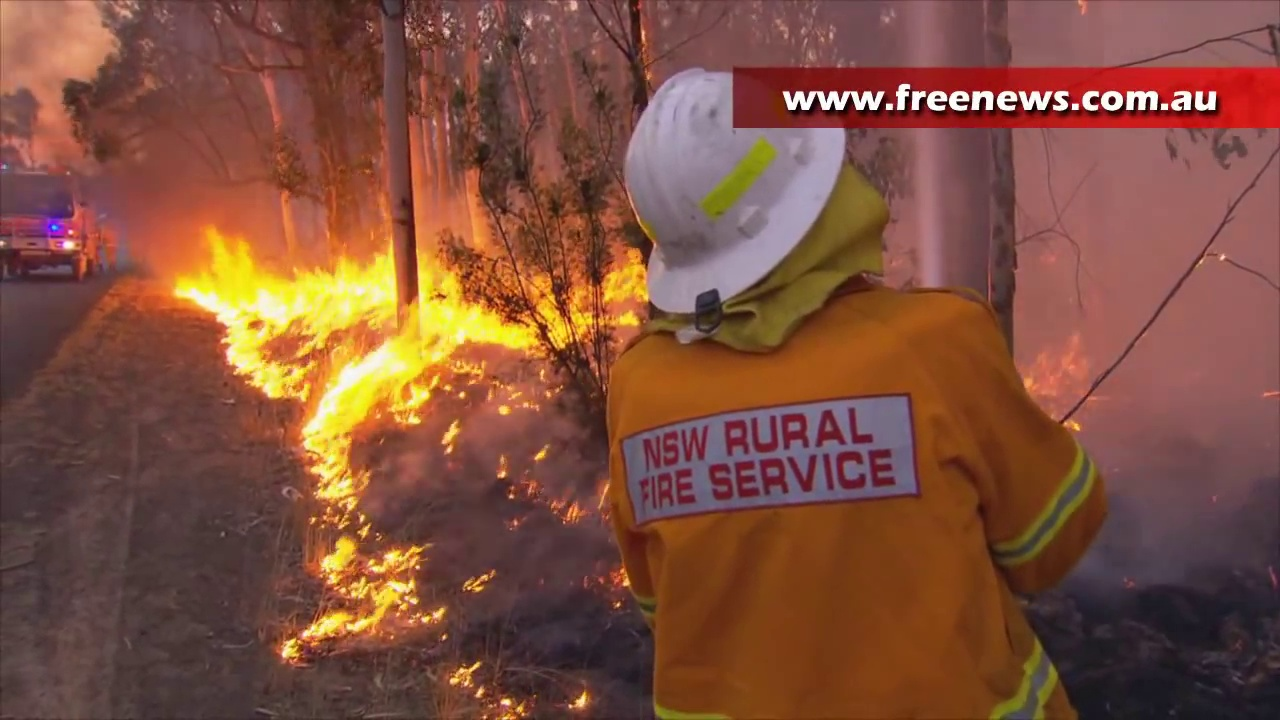fire: (171, 226, 573, 345), (296, 344, 427, 482), (333, 538, 421, 629), (604, 260, 645, 327)
